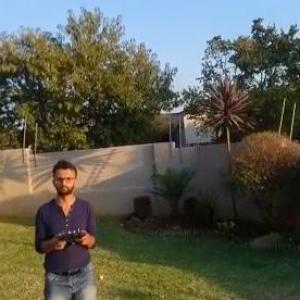follow: (30, 154, 102, 299)
